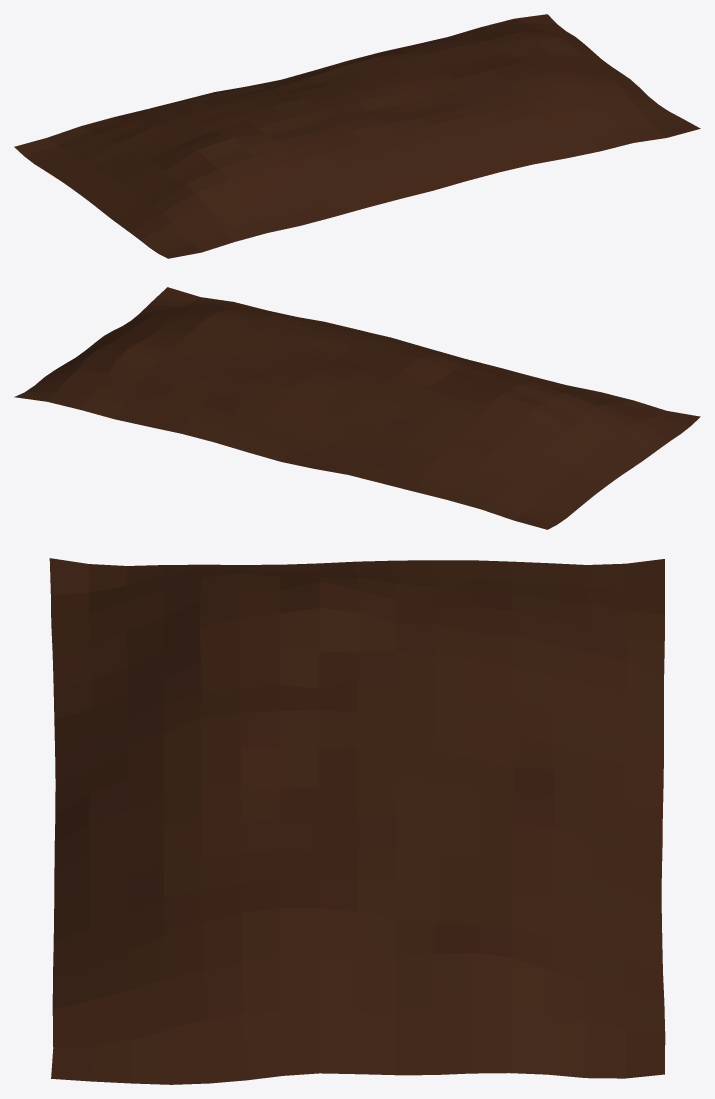
The model's file is Dirt 2.fbx.
3 renders of one model, top to bottom at view 1: azimuth 30°, elevation 25°; view 2: azimuth 150°, elevation 25°; view 3: azimuth 270°, elevation 25°, orthographic. The views are drawn at different scales.
Parts seen in each view (by area): view 1: Plane; view 2: Plane; view 3: Plane.
Boxes of the visible parts, <box> form: Plane: <box>14,14,700,258</box>; Plane: <box>14,287,700,529</box>; Plane: <box>49,558,665,1084</box>.
Bounding box in the file's own units: 29.94 × 2.35 × 14.96.
